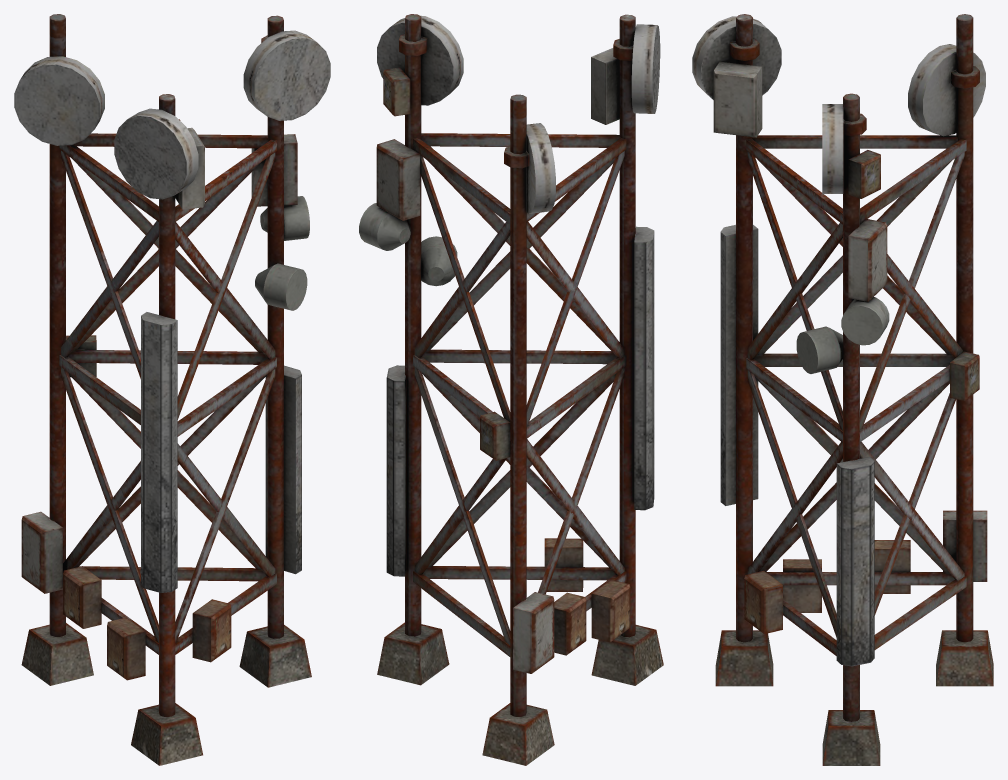
File: ReceptionTower.FBX
The picture shows the model from 3 angles, left to right: view 1: azimuth 30°, elevation 25°; view 2: azimuth 150°, elevation 25°; view 3: azimuth 270°, elevation 25°; orthographic projection.
Visible parts, largest first — view 1: ReceptionTower; view 2: ReceptionTower; view 3: ReceptionTower.
Boxes of the visible parts, x1=… form: ReceptionTower: x1=14, y1=14, x2=330, y2=765; ReceptionTower: x1=359, y1=14, x2=663, y2=765; ReceptionTower: x1=692, y1=14, x2=993, y2=765.
Size of the model in its own units: 125 by 322 by 134.
